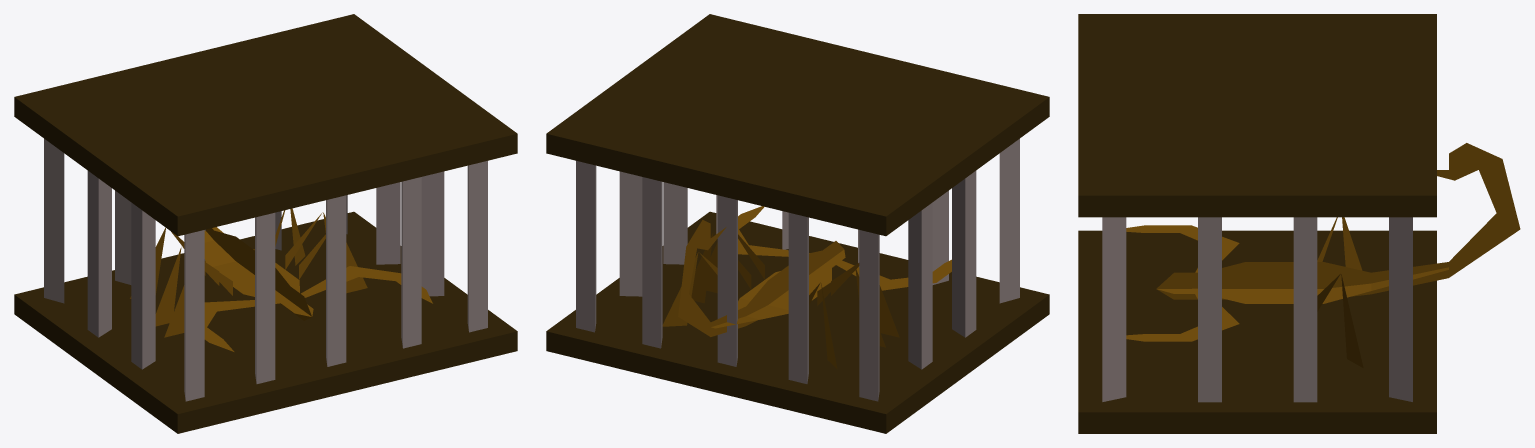
3 renders of one model, left to right at view 1: azimuth 30°, elevation 25°; view 2: azimuth 150°, elevation 25°; view 3: azimuth 270°, elevation 25°, orthographic. The views are drawn at different scales.
Parts seen in each view (by area): view 1: 2703; view 2: 2703; view 3: 2703.
Boxes of the visible parts, left/top/right/bottom form: 2703: left=14, top=14, right=517, bottom=433; 2703: left=546, top=14, right=1049, bottom=433; 2703: left=1078, top=14, right=1520, bottom=433.
Bounding box in the file's own units: 72 × 44 × 74.
